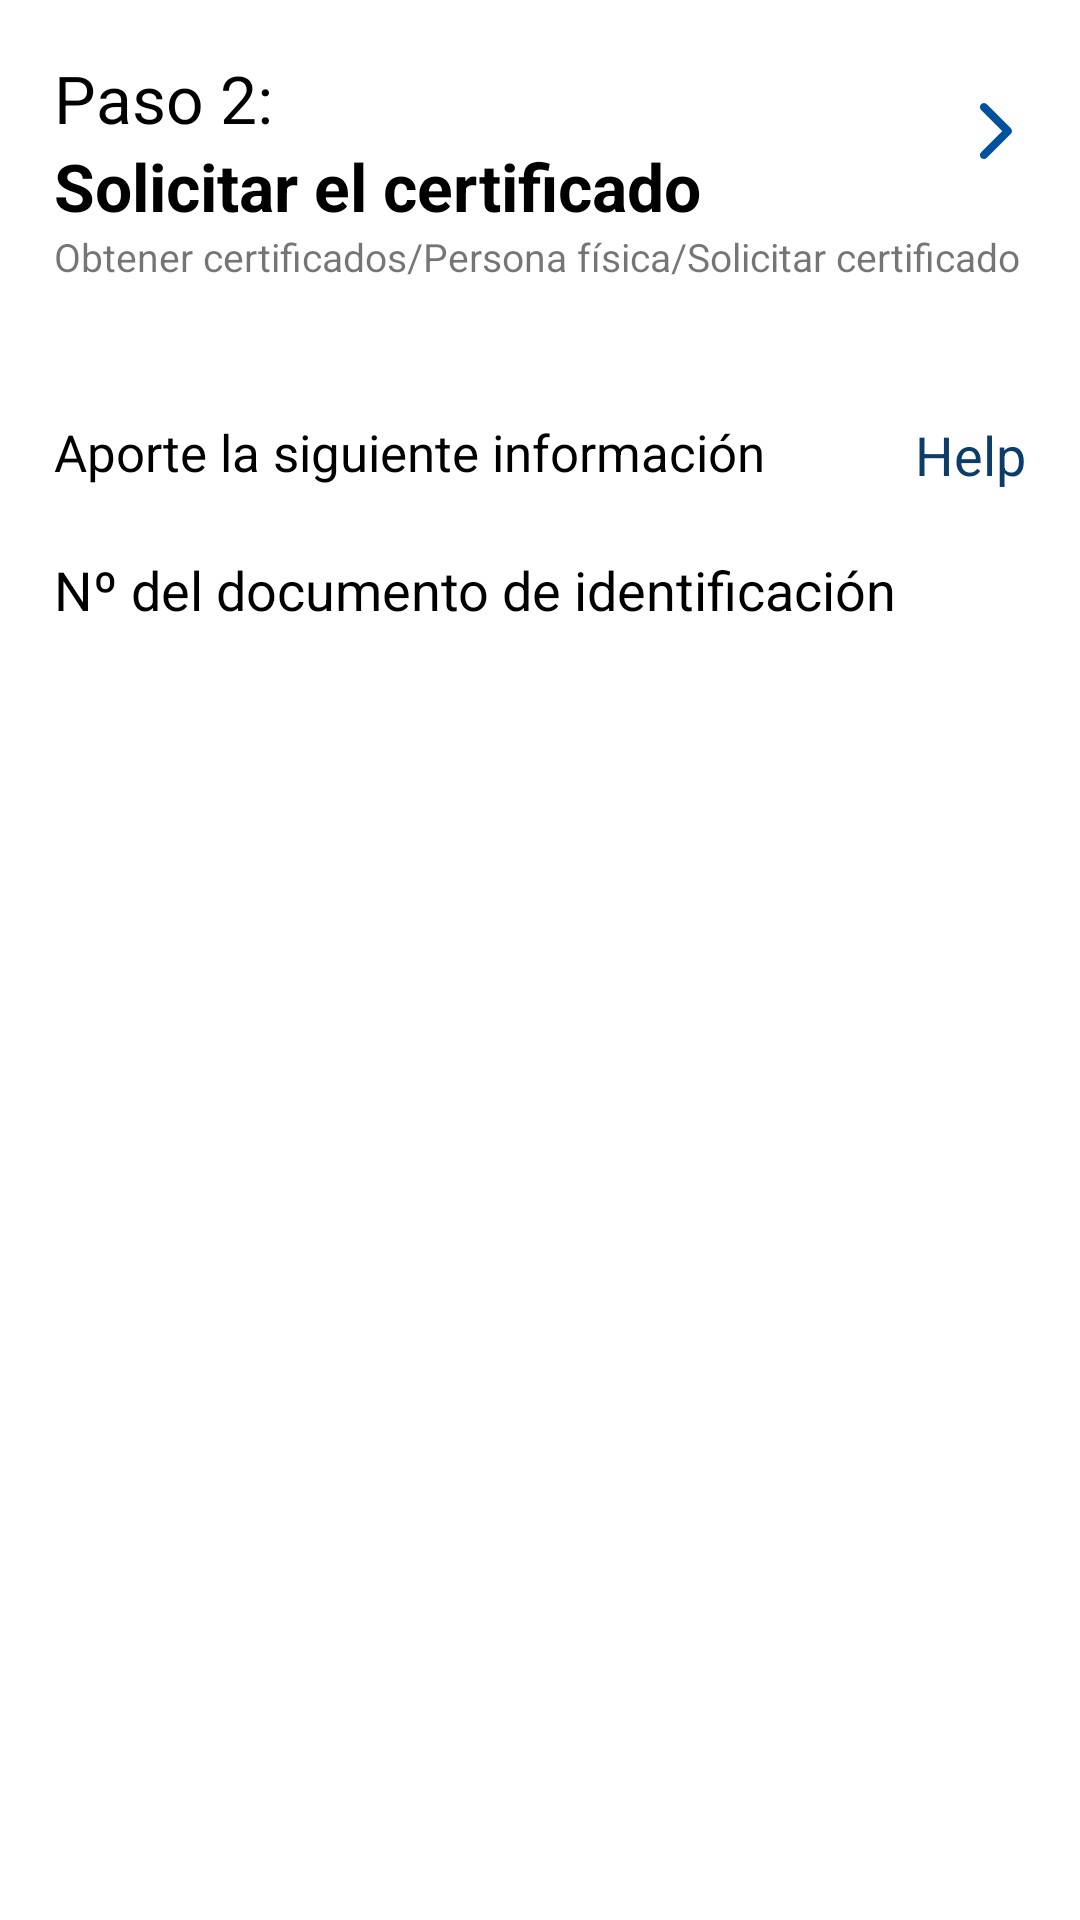

Point at icon controls on the screen. Image size 1080w x 1920h, points as (x,y).
right arrow: (996,131)
